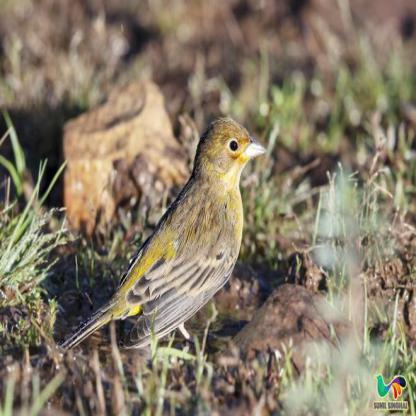Burung: (55, 119, 265, 357)
